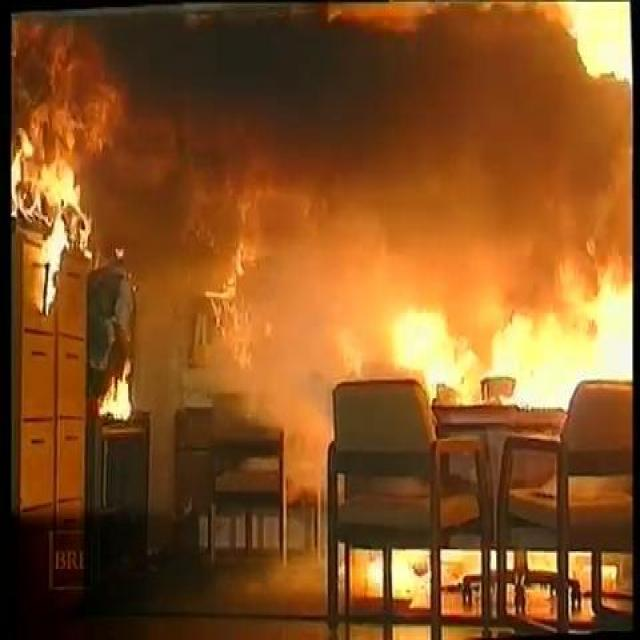fire: (346, 307, 640, 420), (14, 118, 94, 315), (96, 364, 150, 431)
